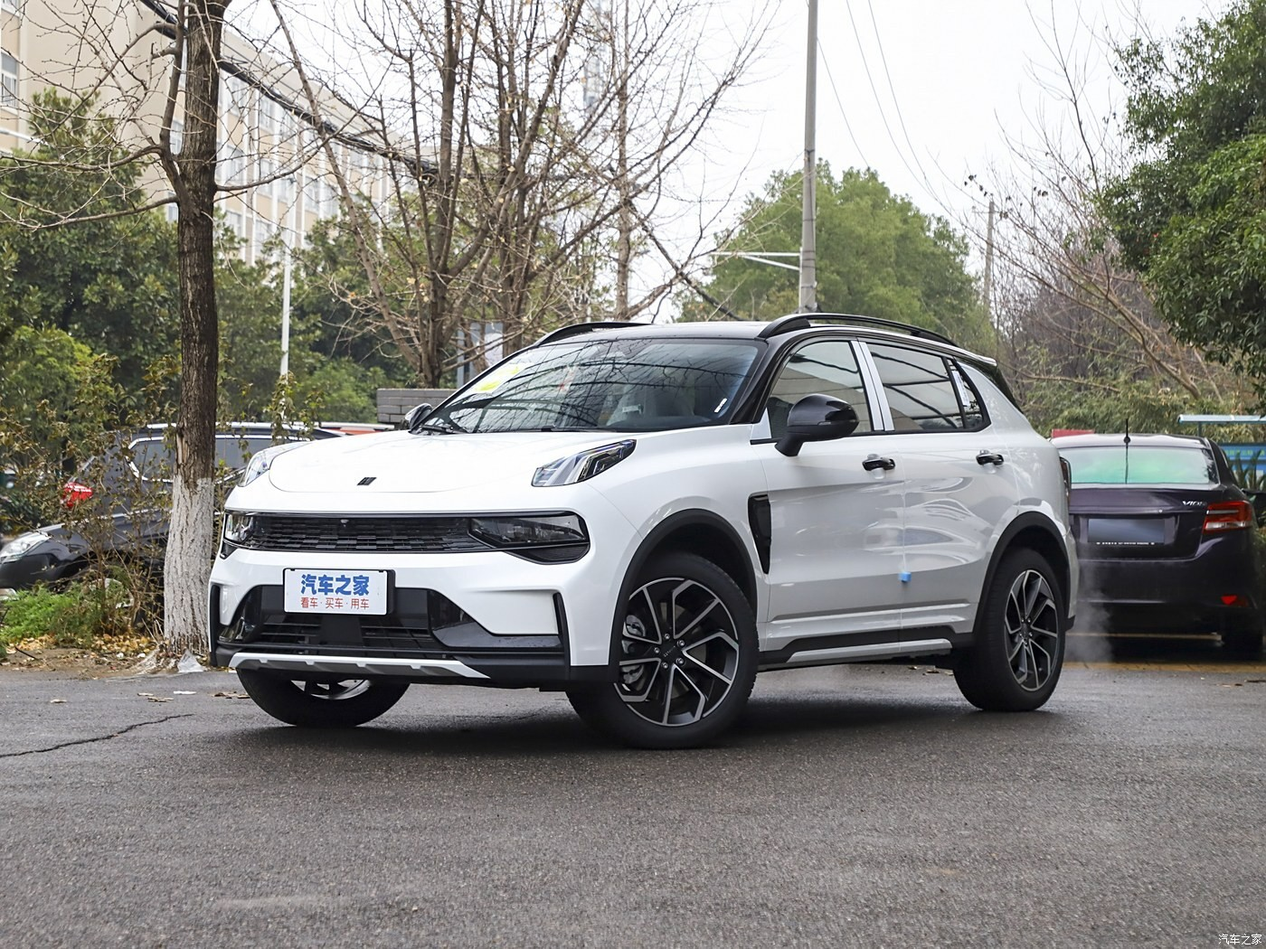LINK&CO: (357, 477, 377, 485)
